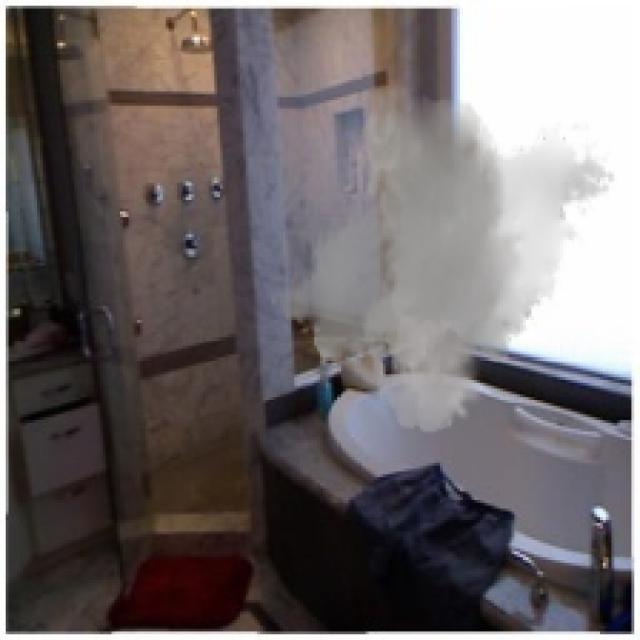Smoke: (268, 82, 618, 434)
